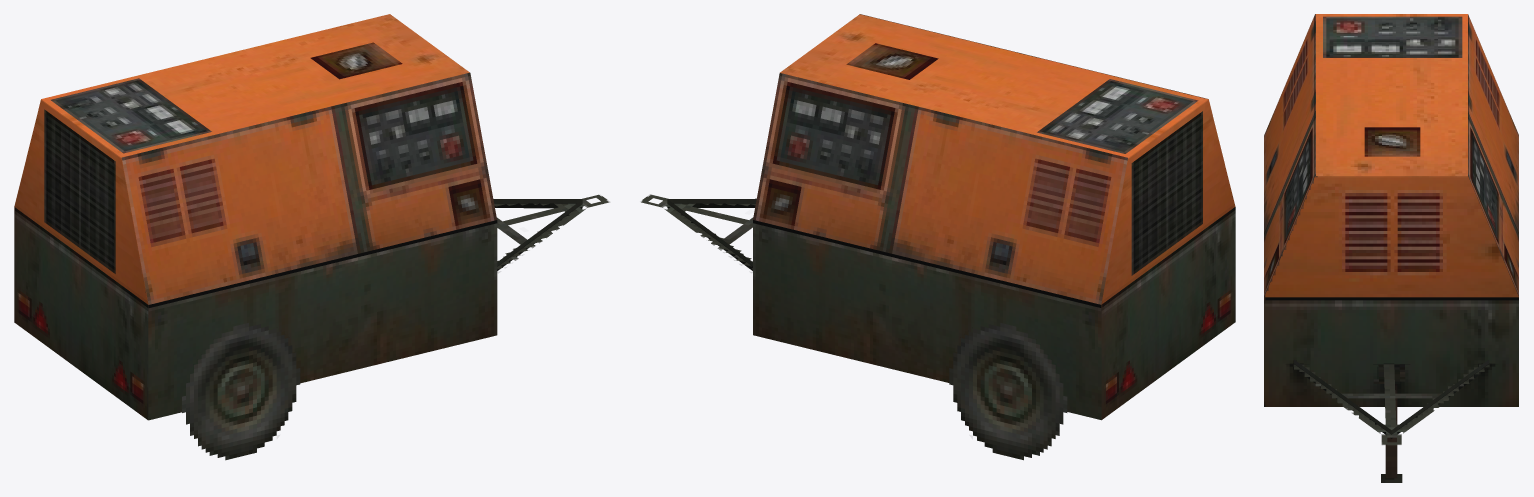
Rendered from hobart.glb.
The picture shows the model from 3 angles, left to right: view 1: azimuth 30°, elevation 25°; view 2: azimuth 150°, elevation 25°; view 3: azimuth 270°, elevation 25°; orthographic projection. The views are drawn at different scales.
Visible parts, largest first — view 1: Object_2; view 2: Object_2; view 3: Object_2.
Part boxes in pixels (left/top/right/bottom): Object_2: left=14, top=14, right=609, bottom=460; Object_2: left=641, top=14, right=1235, bottom=460; Object_2: left=1264, top=14, right=1518, bottom=482.
Size of the model in its own units: 1.99 by 1.19 by 0.8831.
1 material, 1 textured.
